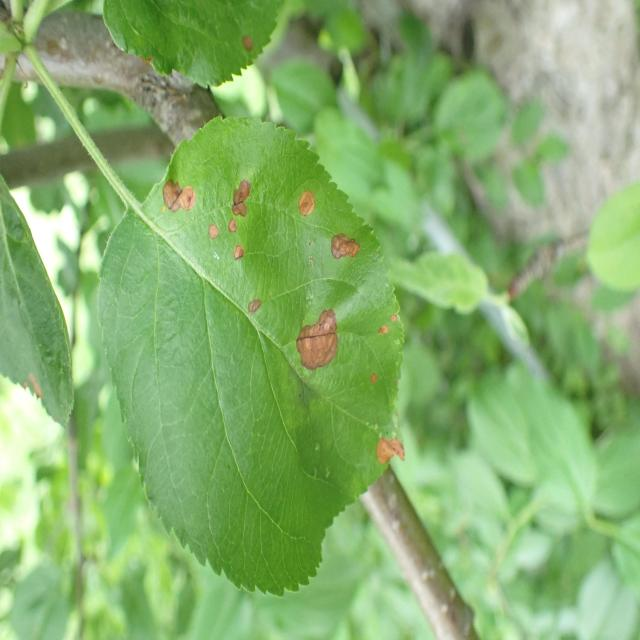Black Rot: (219, 165, 263, 274), (290, 288, 336, 382), (156, 176, 207, 234), (368, 432, 421, 477), (235, 15, 264, 89), (328, 228, 368, 276), (290, 172, 316, 234), (367, 308, 405, 342), (195, 208, 219, 256), (360, 351, 378, 400), (242, 289, 262, 326)
